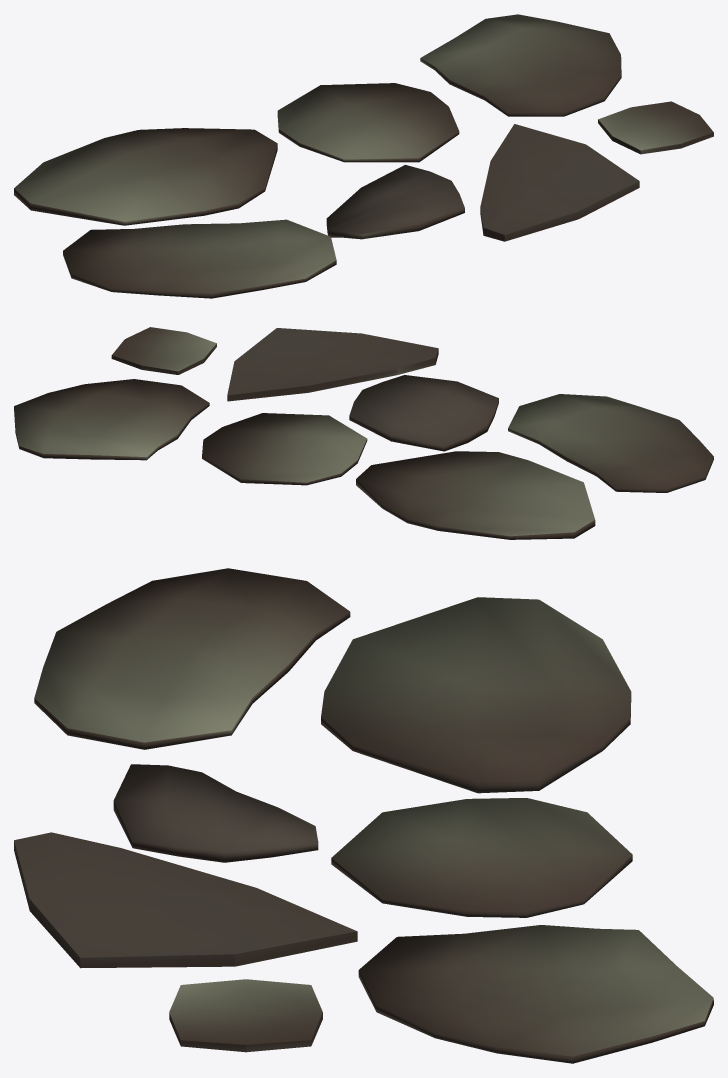
Rendered from StonePath1.fbx.
The picture shows the model from 3 angles, top to bottom: view 1: azimuth 30°, elevation 25°; view 2: azimuth 150°, elevation 25°; view 3: azimuth 270°, elevation 25°; orthographic projection. The views are drawn at different scales.
Visible parts, largest first — view 1: StonePath1; view 2: StonePath1; view 3: StonePath1.
Boxes of the visible parts, bbox=[...] form: StonePath1: bbox=[14, 14, 713, 298]; StonePath1: bbox=[14, 327, 713, 539]; StonePath1: bbox=[14, 568, 713, 1063].
Size of the model in its own units: 2.55 by 0.1288 by 1.54.
